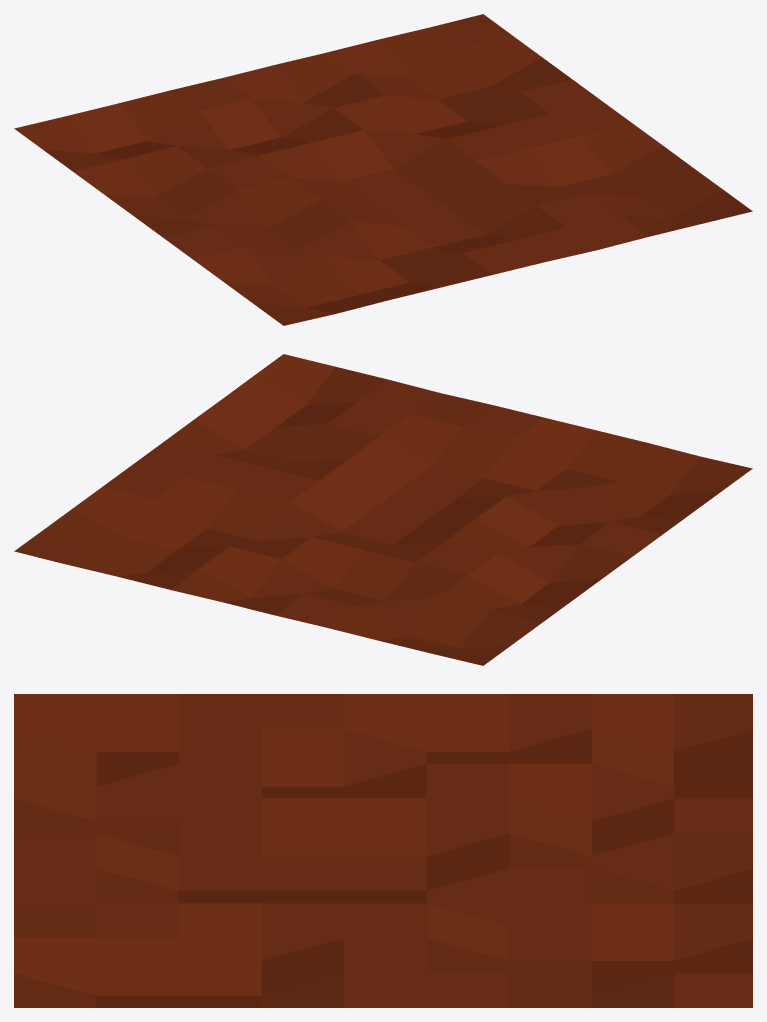
Rendered from Ceiling no rocks.fbx.
3 views of the same model, one above another, from view 1: azimuth 30°, elevation 25°; view 2: azimuth 150°, elevation 25°; view 3: azimuth 270°, elevation 25° (orthographic). The views are drawn at different scales.
Visible parts, largest first — view 1: Grid.001; view 2: Grid.001; view 3: Grid.001.
Part boxes in pixels (x1,y1,x2,y2): Grid.001: (14, 14, 752, 325); Grid.001: (14, 354, 752, 665); Grid.001: (14, 694, 752, 1007).
Size of the model in its own units: 506 by 17.18 by 503.
